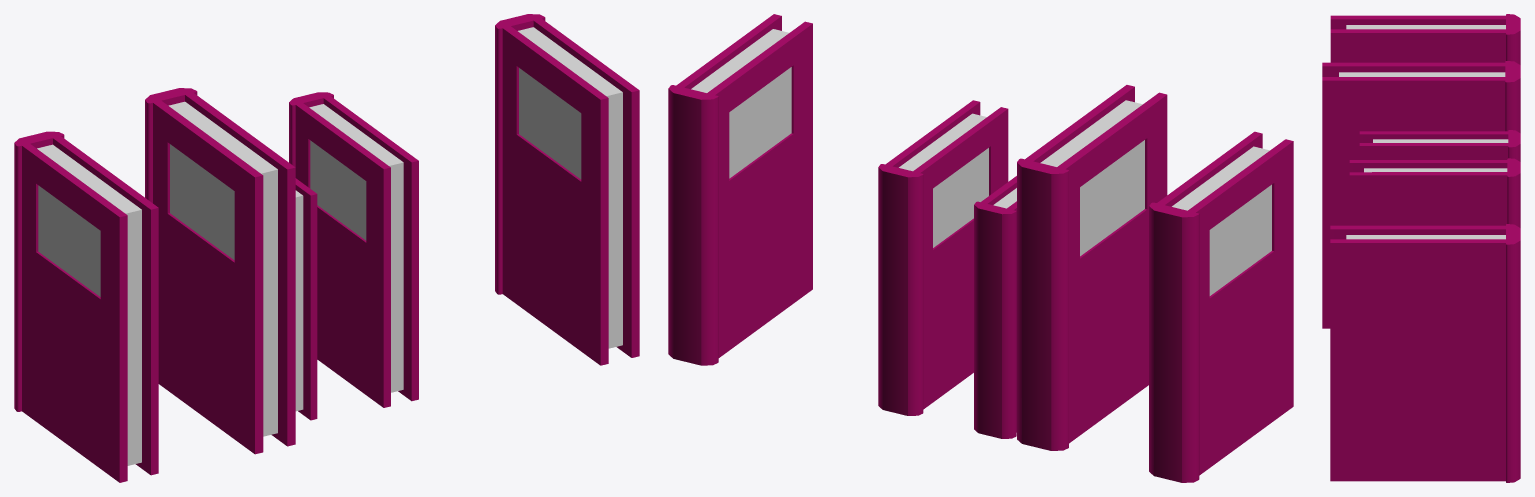
The model's file is Hea_Ba_Books.fbx.
The picture shows the model from 3 angles, left to right: view 1: azimuth 30°, elevation 25°; view 2: azimuth 150°, elevation 25°; view 3: azimuth 270°, elevation 25°; orthographic projection. The views are drawn at different scales.
Parts seen in each view (by area): view 1: Book_Stack_Toilet; view 2: Book_Stack_Toilet; view 3: Book_Stack_Toilet.
Boxes of the visible parts, x1,y1,x2,y2 form: Book_Stack_Toilet: (14,14,639,482); Book_Stack_Toilet: (668,14,1293,482); Book_Stack_Toilet: (1322,14,1520,482).
Bounding box in the file's own units: 49.92 × 25.03 × 18.1.
